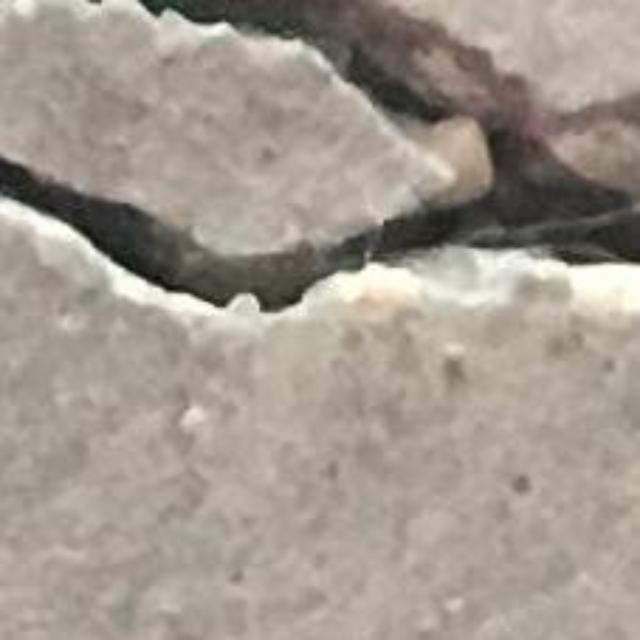crack: (0, 0, 639, 310)
